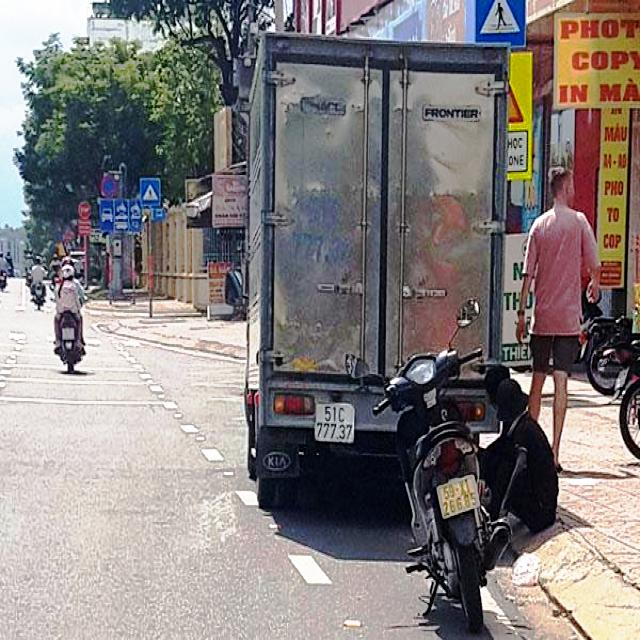license_plate: (440, 475, 481, 520), (315, 404, 356, 444)
